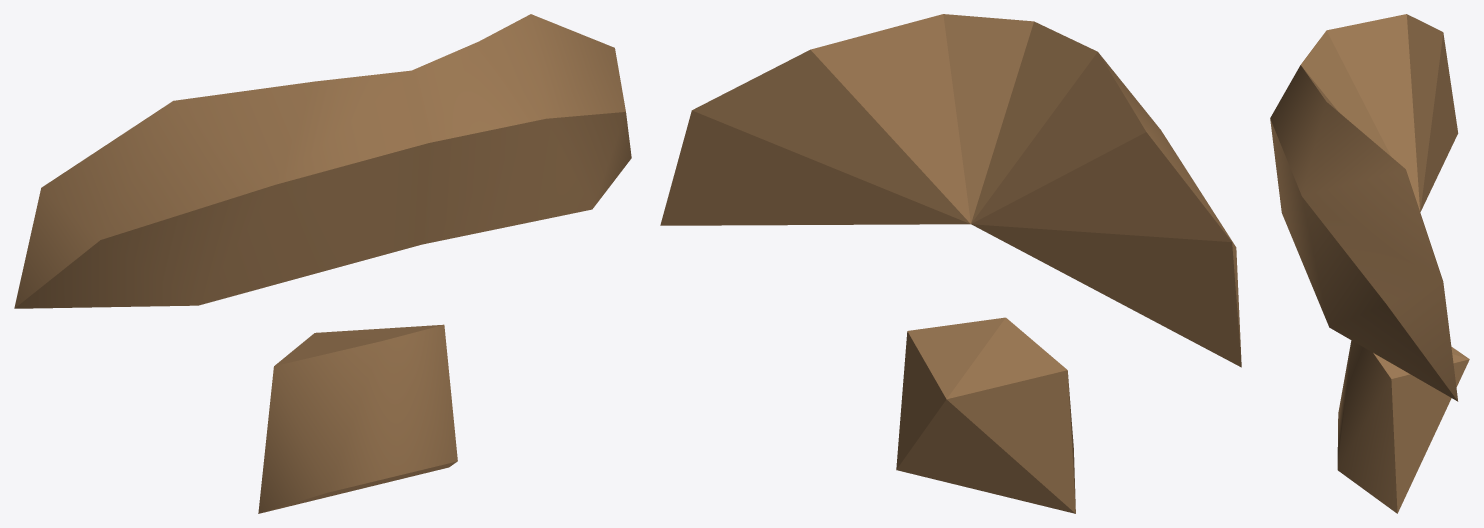
File: Male_Mustache_02_v2.fbx
3 views of the same model, side by side, from view 1: azimuth 30°, elevation 25°; view 2: azimuth 150°, elevation 25°; view 3: azimuth 270°, elevation 25° (orthographic). The views are drawn at different scales.
Parts seen in each view (by area): view 1: Male_Mustache_02_v2; view 2: Male_Mustache_02_v2; view 3: Male_Mustache_02_v2.
Part boxes in pixels (left/top/right/bottom): Male_Mustache_02_v2: left=14, top=14, right=631, bottom=513; Male_Mustache_02_v2: left=660, top=14, right=1241, bottom=513; Male_Mustache_02_v2: left=1270, top=14, right=1469, bottom=513.
Bounding box in the file's own units: 22.73 × 16.15 × 7.14.
